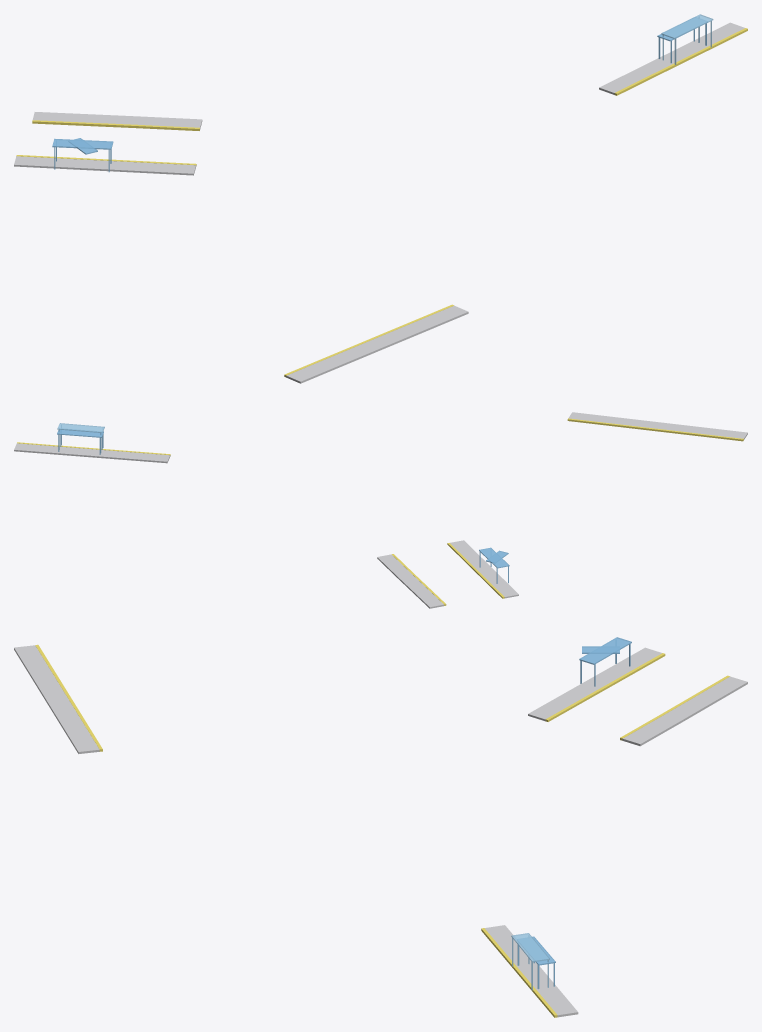
File: 8576999-bern-upd-waldau.glb
The picture shows the model from 3 angles, top to bottom: view 1: azimuth 30°, elevation 25°; view 2: azimuth 150°, elevation 25°; view 3: azimuth 270°, elevation 25°; orthographic projection. The views are drawn at different scales.
Parts seen in each view (by area): view 1: platform_body@0, boarding_edge@0, shelter@0, canopy@0; view 2: platform_body@0, boarding_edge@0, shelter@0, canopy@0; view 3: platform_body@0, boarding_edge@0, shelter@0, canopy@0.
Part boxes in pixels (bbox=[...]): platform_body@0: bbox=[14, 22, 744, 383]; boarding_edge@0: bbox=[16, 28, 747, 377]; shelter@0: bbox=[52, 23, 706, 172]; canopy@0: bbox=[661, 14, 713, 64]; platform_body@0: bbox=[14, 412, 747, 608]; boarding_edge@0: bbox=[17, 418, 743, 605]; shelter@0: bbox=[57, 429, 509, 583]; canopy@0: bbox=[57, 423, 104, 452]; platform_body@0: bbox=[14, 645, 747, 1017]; boarding_edge@0: bbox=[35, 644, 729, 1017]; shelter@0: bbox=[517, 637, 631, 989]; canopy@0: bbox=[511, 933, 549, 990].
Bounding box in the file's own units: 93.04 × 3.85 × 77.82.
